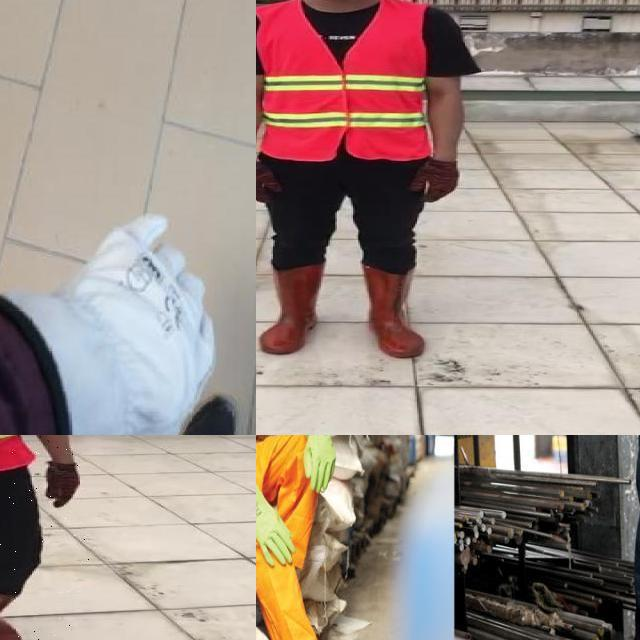BOOTS: (355, 260, 428, 358), (257, 263, 325, 355), (169, 393, 249, 435), (0, 577, 30, 640)
GLOVE: (5, 212, 221, 435), (256, 473, 302, 568), (301, 435, 342, 497), (410, 155, 460, 205), (46, 457, 82, 507), (256, 160, 284, 207)
VEST: (256, 0, 431, 158)
